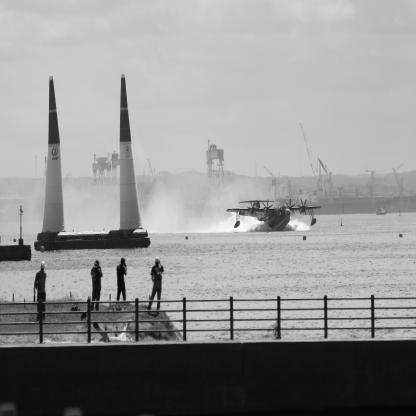US2: (227, 199, 323, 232)
